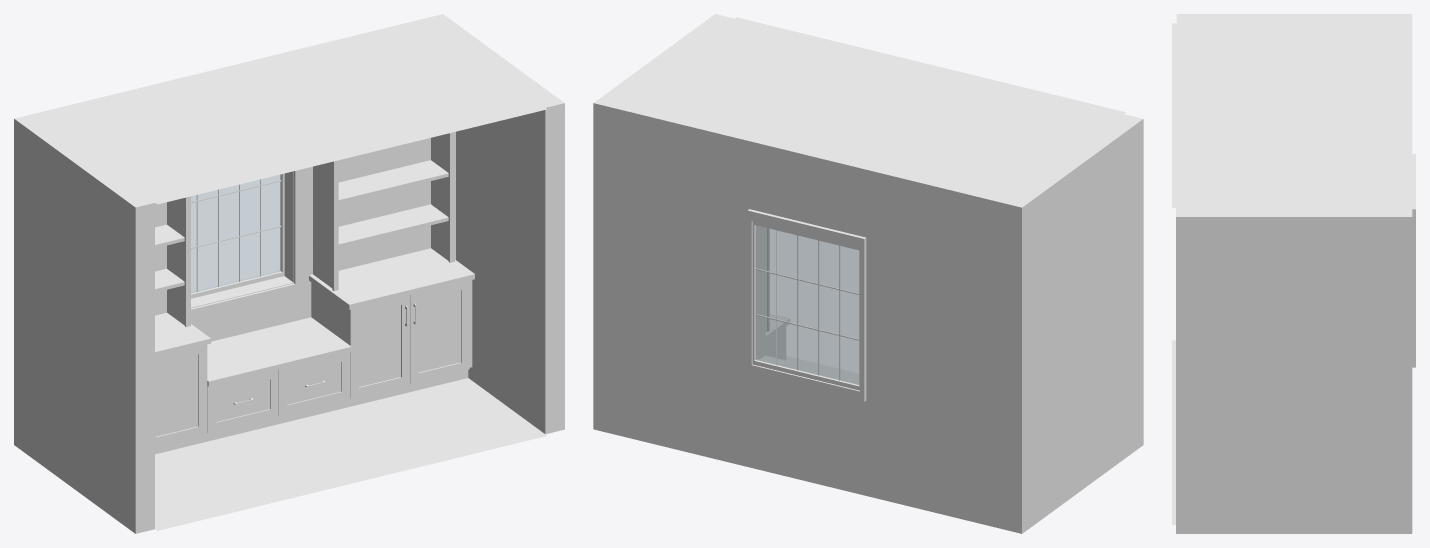
File: jq-window-wall-bookcases-cabinets-room4-authoritative-v01-ios-v1.glb
3 renders of one model, left to right at view 1: azimuth 30°, elevation 25°; view 2: azimuth 150°, elevation 25°; view 3: azimuth 270°, elevation 25°, orthographic. The views are drawn at different scales.
Parts seen in each view (by area): view 1: Geom3D_Wall Left Cap, Geom3D_Ceiling, Geom3D_Wall Right Cap, Geom3D_Floor, Geom3D_Top (×3), Geom3D_Wall, Geom3D_Door Panel (×3), Geom3D_, Geom3D_UBack (×2), Geom3D_Union (×2), Geom3D_Adjustable Shelf (×2), Geom3D_UEnd (R) (×2) (+10 smaller); view 2: Geom3D_Wall, Geom3D_Wall Left Cap, Geom3D_Ceiling, Geom3D_, Geom3D_Union (×2), Geom3D_Wall Right Cap, Geom3D_Stile; view 3: Geom3D_Wall Right Cap, Geom3D_Ceiling, Geom3D_Wall, Geom3D_Wall Left Cap, Geom3D_Union, Geom3D_Floor, Geom3D_Stile.
Part boxes in pixels (left/top/right/bottom): Geom3D_Wall Left Cap: left=14, top=114, right=154, bottom=533; Geom3D_Ceiling: left=45, top=27, right=546, bottom=204; Geom3D_Wall Right Cap: left=424, top=14, right=564, bottom=434; Geom3D_Floor: left=155, top=378, right=546, bottom=530; Geom3D_Top (×3): left=155, top=248, right=470, bottom=379; Geom3D_Wall: left=34, top=19, right=434, bottom=341; Geom3D_Door Panel (×3): left=156, top=290, right=460, bottom=436; Geom3D_: left=191, top=174, right=281, bottom=293; Geom3D_UBack (×2): left=155, top=138, right=430, bottom=315; Geom3D_Union (×2): left=191, top=170, right=299, bottom=318; Geom3D_Adjustable Shelf (×2): left=338, top=160, right=448, bottom=247; Geom3D_UEnd (R) (×2): left=167, top=133, right=448, bottom=324; Geom3D_Wall: left=613, top=99, right=1013, bottom=528; Geom3D_Wall Left Cap: left=1002, top=114, right=1143, bottom=533; Geom3D_Ceiling: left=624, top=17, right=1125, bottom=194; Geom3D_: left=755, top=225, right=859, bottom=384; Geom3D_Union (×2): left=747, top=209, right=866, bottom=401; Geom3D_Wall Right Cap: left=593, top=14, right=734, bottom=433; Geom3D_Stile: left=648, top=85, right=1025, bottom=177; Geom3D_Wall Right Cap: left=1176, top=208, right=1412, bottom=533; Geom3D_Ceiling: left=1172, top=23, right=1390, bottom=207; Geom3D_Wall: left=1390, top=23, right=1412, bottom=207; Geom3D_Wall Left Cap: left=1176, top=14, right=1412, bottom=23; Geom3D_Union: left=1412, top=154, right=1415, bottom=367; Geom3D_Floor: left=1172, top=340, right=1175, bottom=524; Geom3D_Stile: left=1349, top=27, right=1352, bottom=205.
Bounding box in the file's own units: 3.35 × 2.44 × 1.7.
